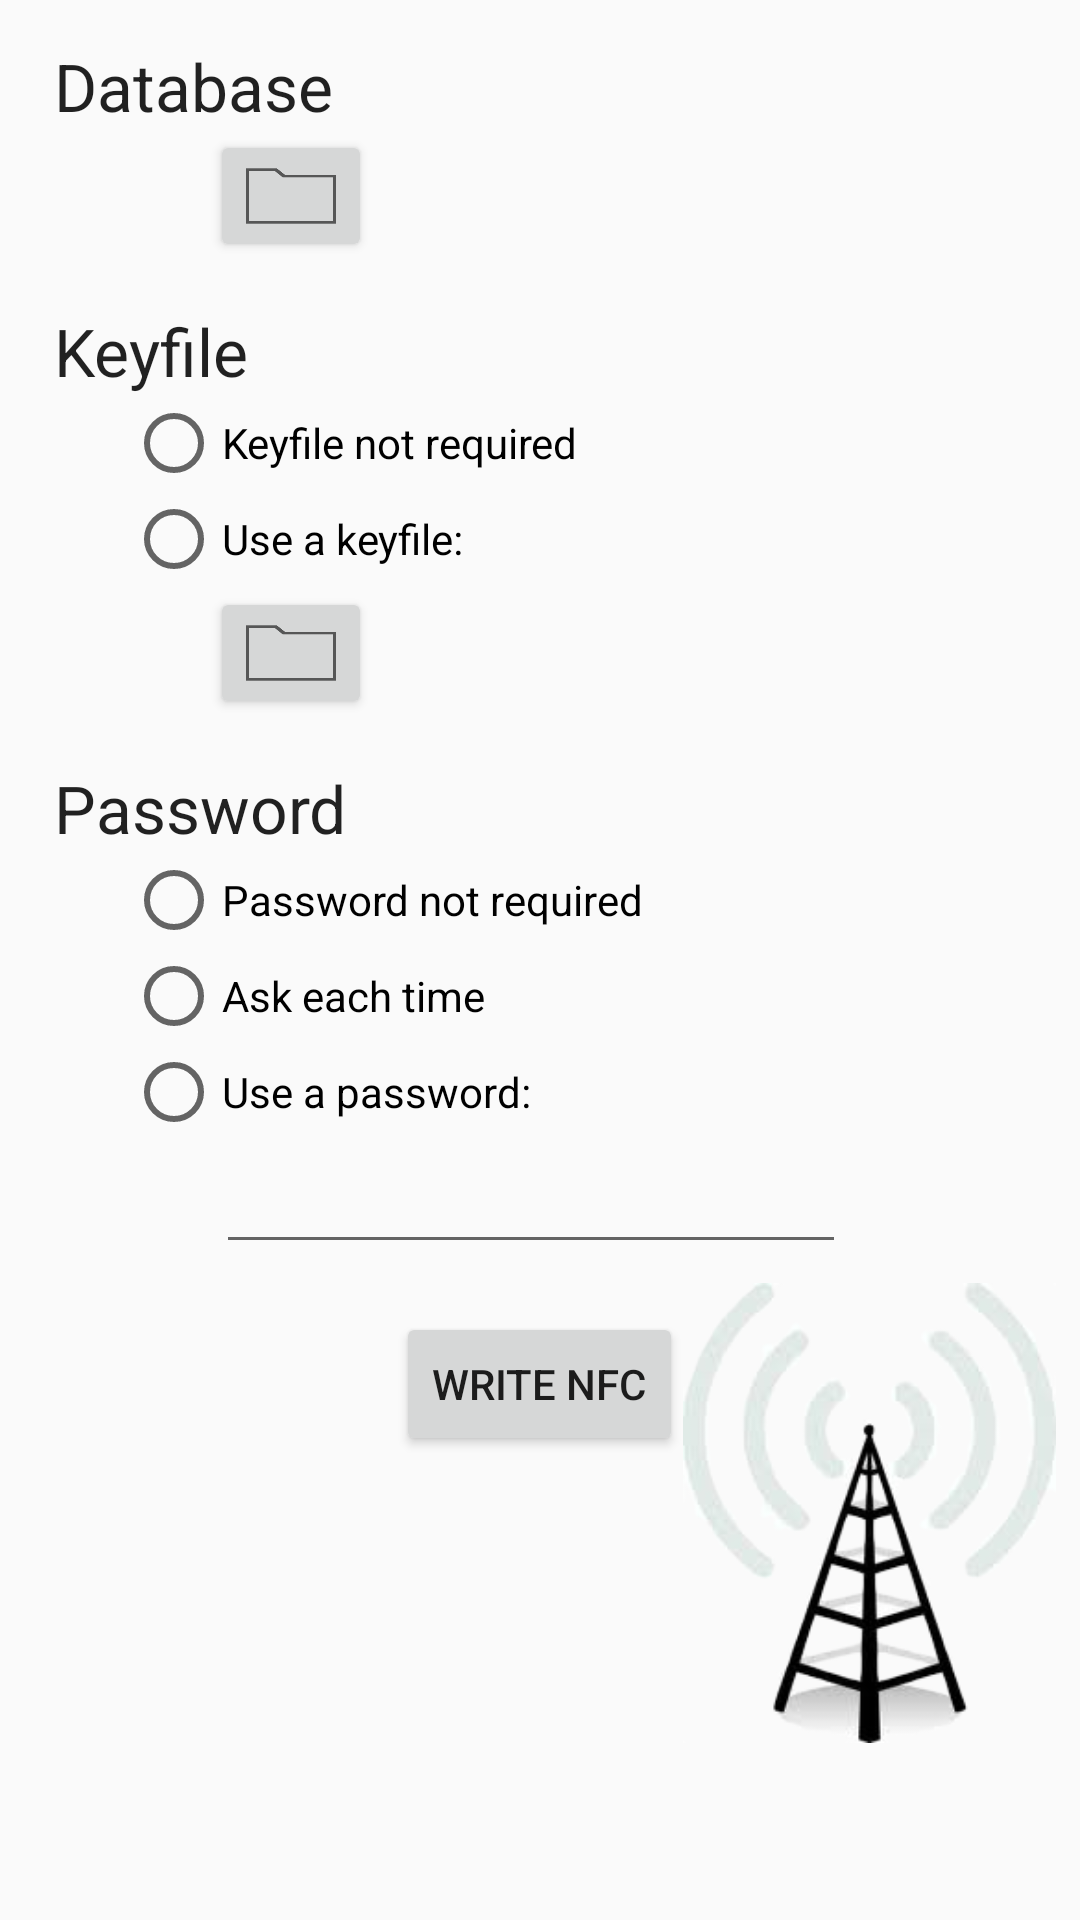

Where to tap for icons on this 1080px x 1920px app screen, as [x,y]:
folder: [290,196], [290,653]
